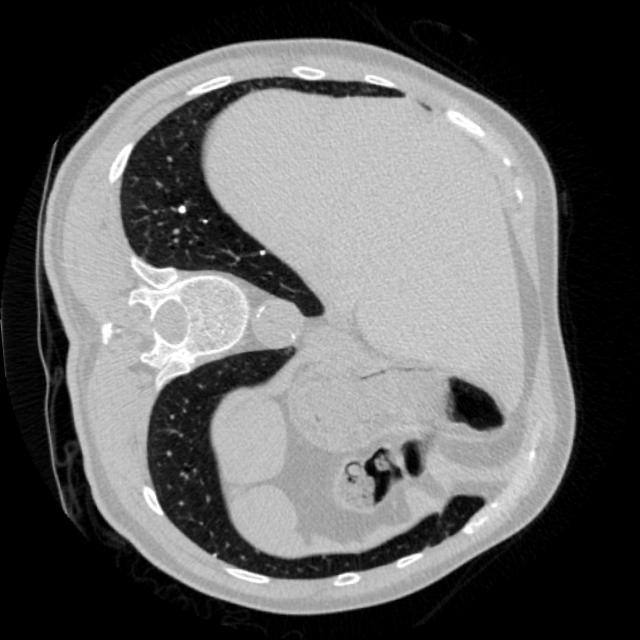nodule: (171, 196, 193, 218)
